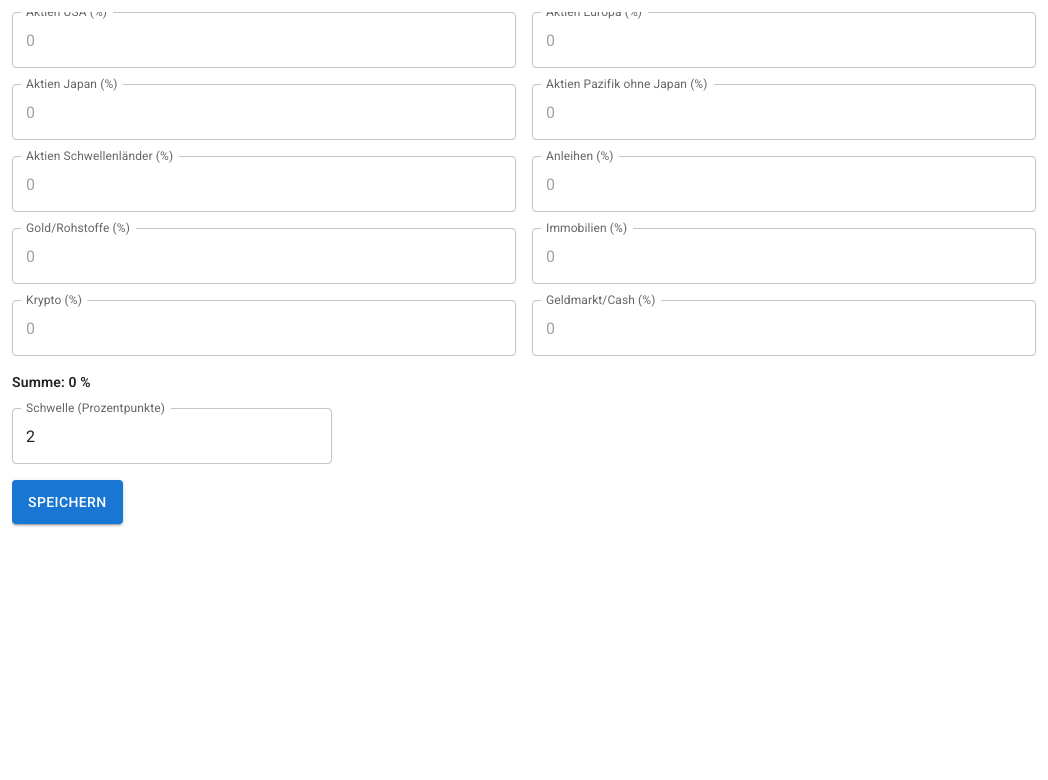
Test: TargetForm › shows the sum error, a field error and the threshold error in German
The image size is (1048, 780).
Click the button "Speichern". click: {"x": 67, "y": 502}
box: [12,480,123,524]
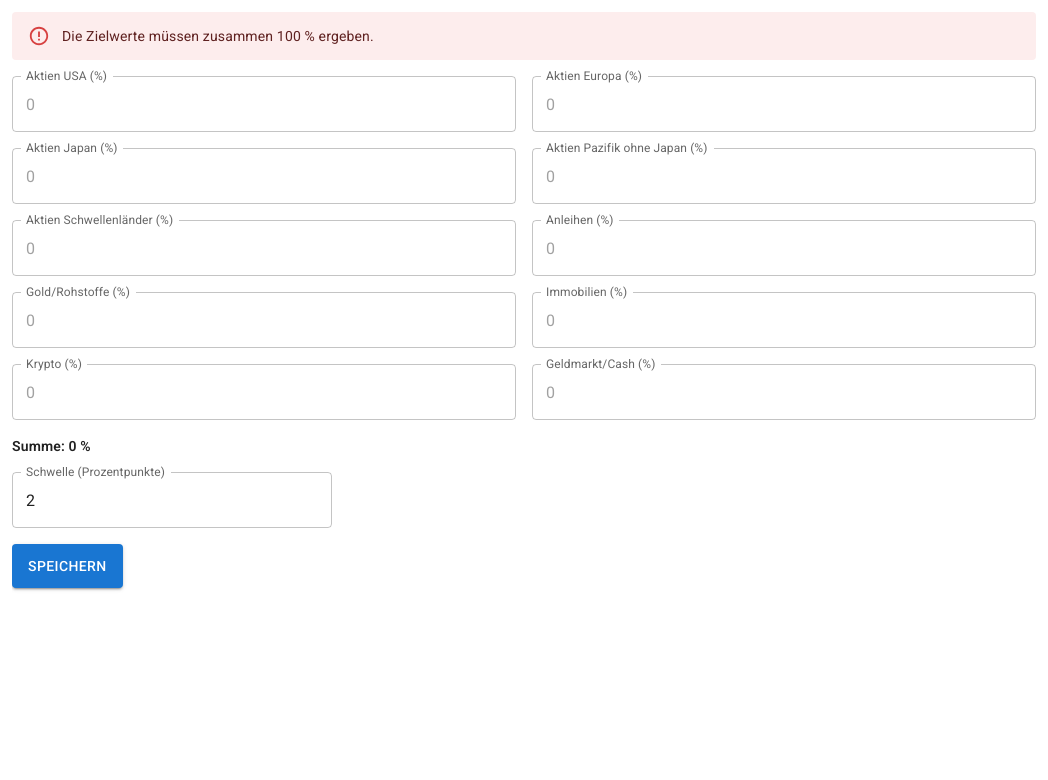
Expected: the message "Die Zielwerte müssen zusammen 100 % ergeben." is shown, [12,12,1036,60]
Click the button "Speichern". click: {"x": 67, "y": 566}
box: [12,544,123,588]
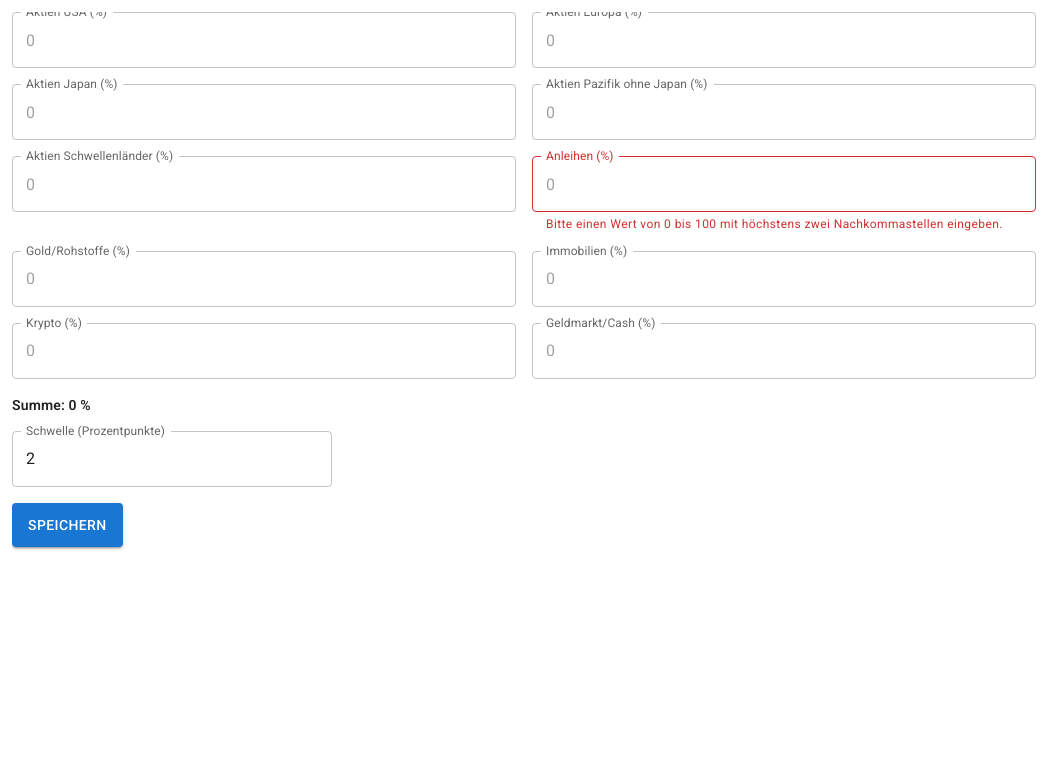
Expected: the text "Bitte einen Wert von 0 bis 100 mit höchstens zwei Nachkommastellen eingeben." is shown, [546,215,1022,235]
Click the button "Speichern". click: {"x": 67, "y": 525}
box: [12,503,123,547]
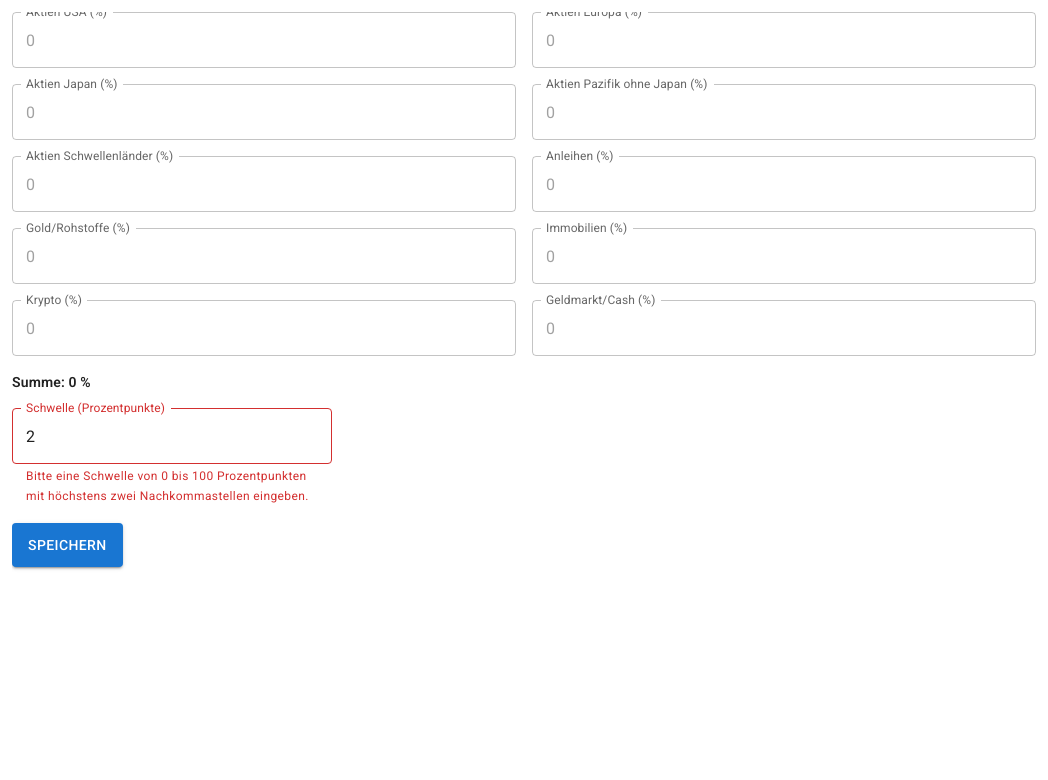
Expected: the text "Bitte eine Schwelle von 0 bis 100" is shown, [26,469,309,503]
